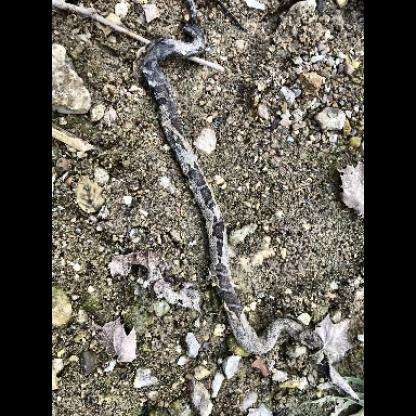Snake: (137, 4, 327, 364)
